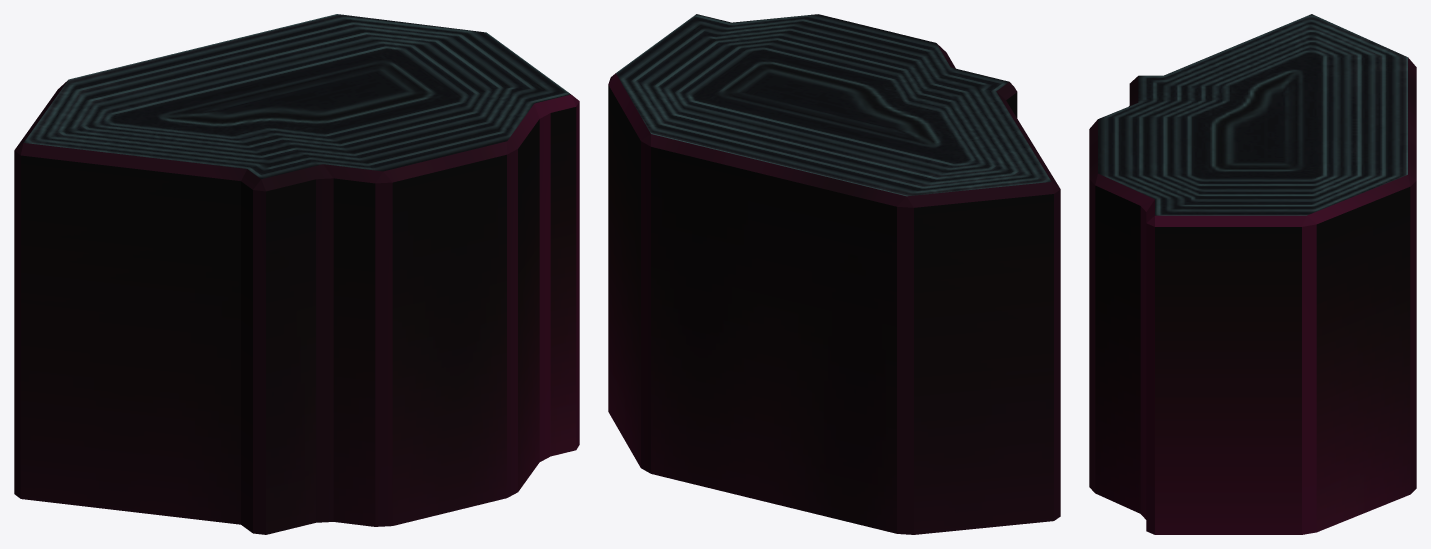
Rendered from SM_Wall_03.fbx.
3 renders of one model, left to right at view 1: azimuth 30°, elevation 25°; view 2: azimuth 150°, elevation 25°; view 3: azimuth 270°, elevation 25°, orthographic. The views are drawn at different scales.
Visible parts, largest first — view 1: Wall_03; view 2: Wall_03; view 3: Wall_03.
Part boxes in pixels (left/top/right/bottom): Wall_03: left=14, top=14, right=579, bottom=534; Wall_03: left=608, top=14, right=1060, bottom=534; Wall_03: left=1089, top=14, right=1416, bottom=534.
Bounding box in the file's own units: 4.12 × 2.92 × 2.74.
